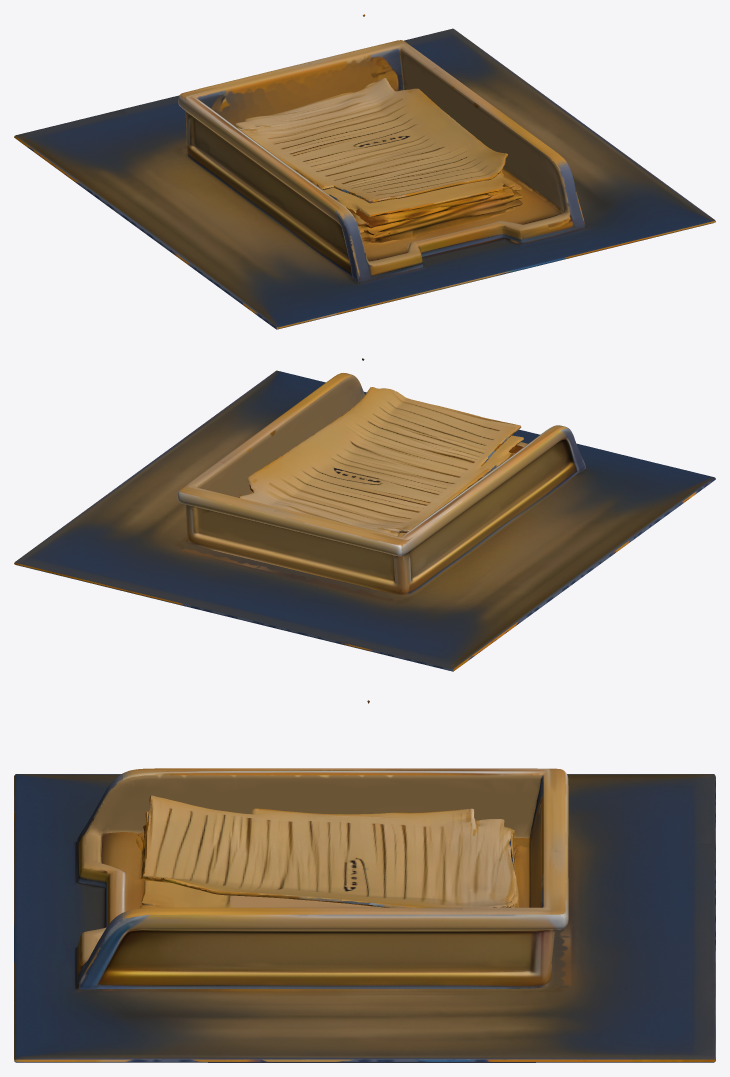
Rendered from LetterTray.glb.
3 renders of one model, top to bottom at view 1: azimuth 30°, elevation 25°; view 2: azimuth 150°, elevation 25°; view 3: azimuth 270°, elevation 25°, orthographic. The views are drawn at different scales.
Visible parts, largest first — view 1: LetterTray; view 2: LetterTray; view 3: LetterTray.
Part boxes in pixels (x1=…): LetterTray: x1=14, y1=14, x2=715, y2=329; LetterTray: x1=14, y1=358, x2=715, y2=671; LetterTray: x1=14, y1=700, x2=715, y2=1062.
Bounding box in the file's own units: 1.93 × 0.6915 × 1.99.
1 material, 1 textured.
